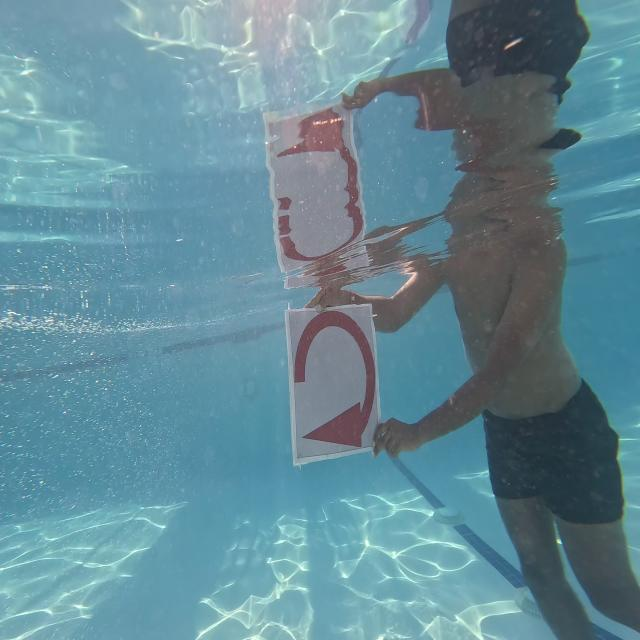red_side: (274, 289, 389, 482)
